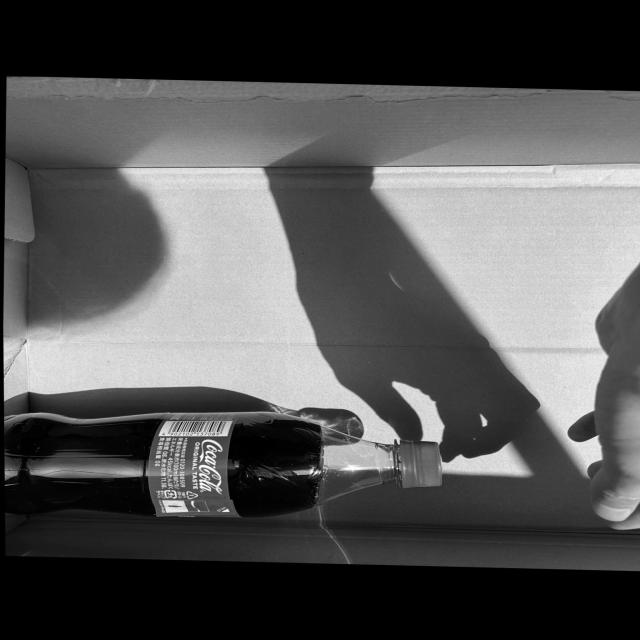high: (5, 410, 442, 520)
